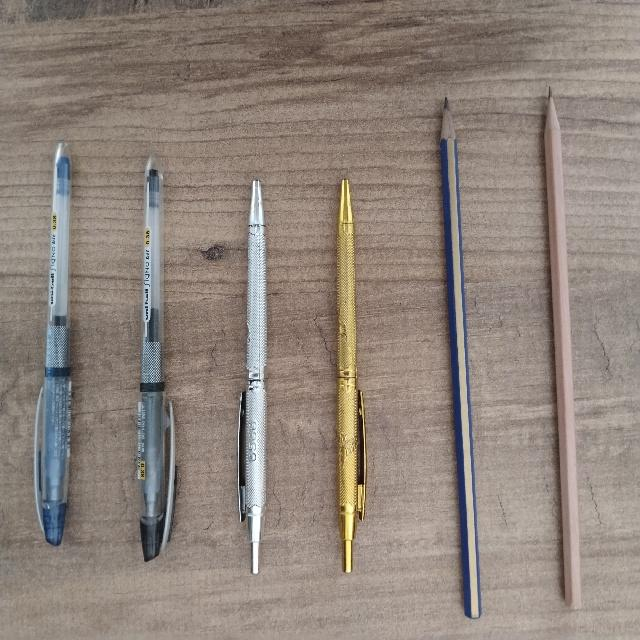pen: (137, 156, 175, 560), (34, 142, 70, 545)
pencil: (440, 99, 480, 617), (544, 89, 580, 608)
signature pen: (238, 180, 266, 573), (337, 180, 365, 572)
